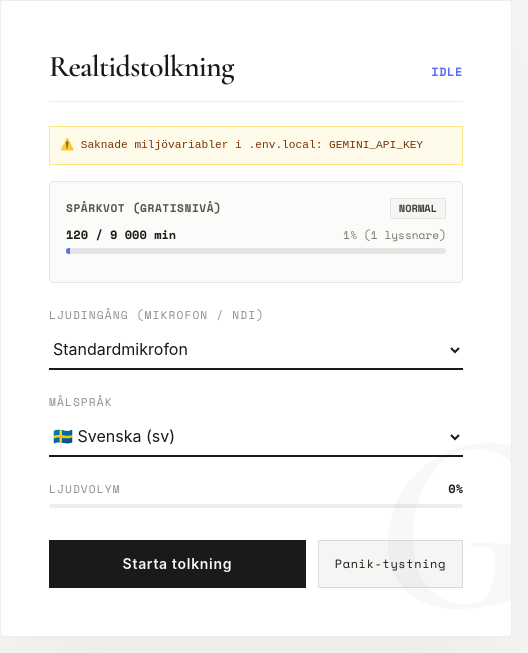
Test: LiveTranslationWidget › handles start and stop translation interactions
The image size is (528, 653).
Step 1. Click the button "Starta tolkning" → (177, 564), box x1=49 y1=540 x2=306 y2=588
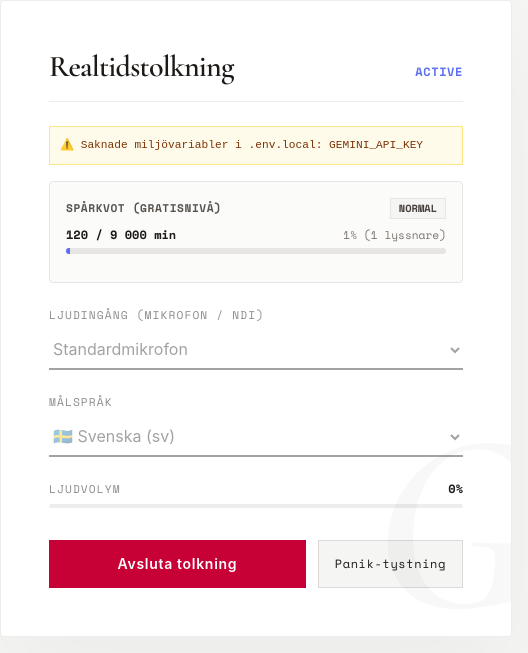
Expected: the button "Avsluta tolkning" is shown
Step 2. Click the button "Avsluta tolkning" → (177, 564), box x1=49 y1=540 x2=306 y2=588
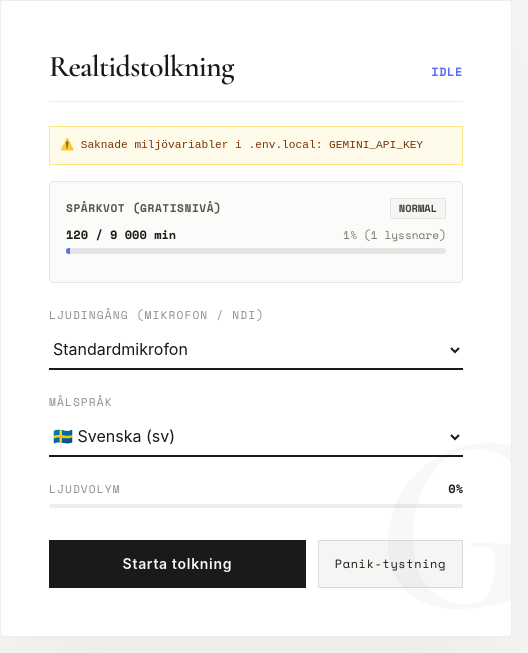
Expected: the button "Starta tolkning" is shown, x1=49 y1=540 x2=306 y2=588
